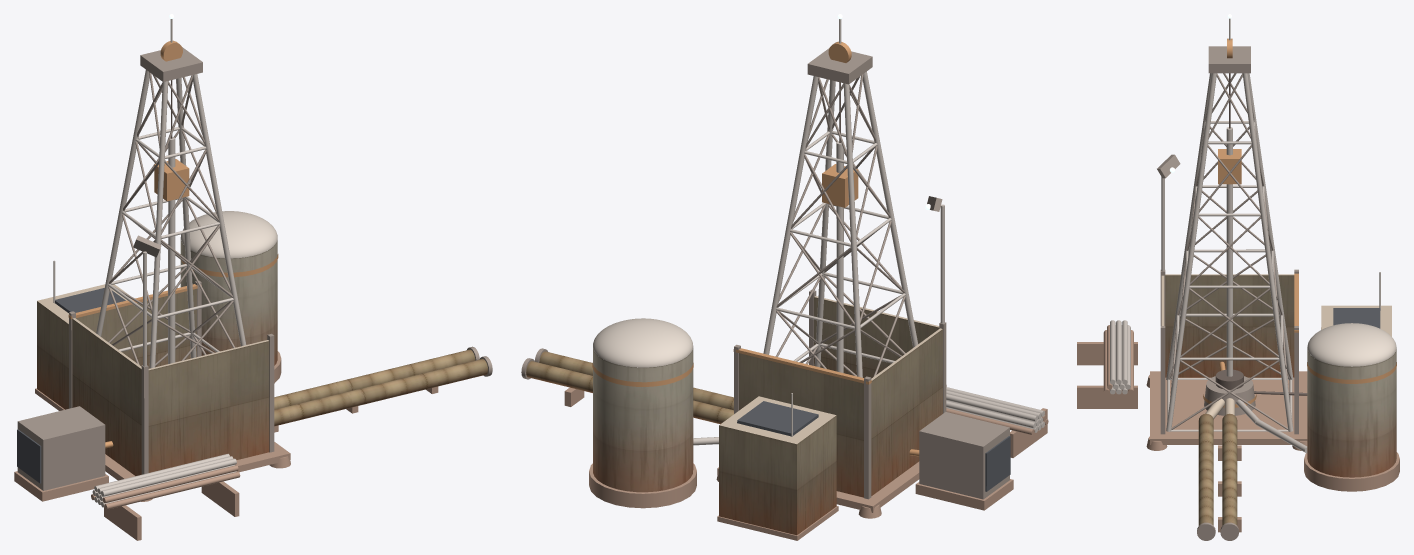
The model's file is E11_ice_drill_rig_stage2.glb.
3 renders of one model, left to right at view 1: azimuth 30°, elevation 25°; view 2: azimuth 150°, elevation 25°; view 3: azimuth 270°, elevation 25°, orthographic. The views are drawn at different scales.
Parts seen in each view (by area): view 1: wind_screen, brace, derrick_leg, sheave, deck, insulated_pipe, melt_water_tank, cabin; view 2: wind_screen, brace, derrick_leg, melt_water_tank, cabin, sheave, deck, insulated_pipe; view 3: derrick_leg, deck, brace, melt_water_tank, wind_screen, sheave, insulated_pipe.
Part boxes in pixels (box(x1,y1,x2,y2)): wind_screen: box(72, 288, 269, 475); brace: box(17, 47, 492, 490); derrick_leg: box(53, 19, 246, 507); sheave: box(37, 40, 278, 448); deck: box(14, 351, 438, 540); insulated_pipe: box(274, 349, 487, 426); melt_water_tank: box(180, 240, 277, 365); cabin: box(37, 301, 68, 409); wind_screen: box(739, 297, 942, 497); brace: box(521, 48, 1010, 499); derrick_leg: box(693, 19, 1044, 445); melt_water_tank: box(593, 348, 693, 492); cabin: box(719, 415, 836, 535); sheave: box(592, 41, 942, 456); deck: box(564, 385, 1048, 540); insulated_pipe: box(526, 351, 733, 424); derrick_leg: box(1110, 18, 1380, 453); deck: box(1077, 325, 1399, 532); brace: box(1157, 46, 1380, 540); melt_water_tank: box(1307, 349, 1396, 477); wind_screen: box(1165, 275, 1294, 377); sheave: box(1161, 38, 1396, 418); insulated_pipe: box(1198, 413, 1237, 525).
Size of the model in its own units: 10.19 by 9.43 by 6.87.
10 materials, 4 textured.
